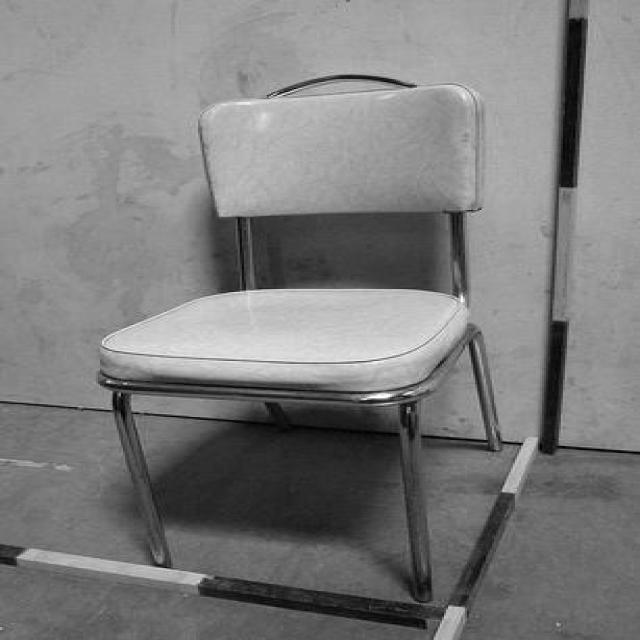chair: (100, 73, 516, 601)
